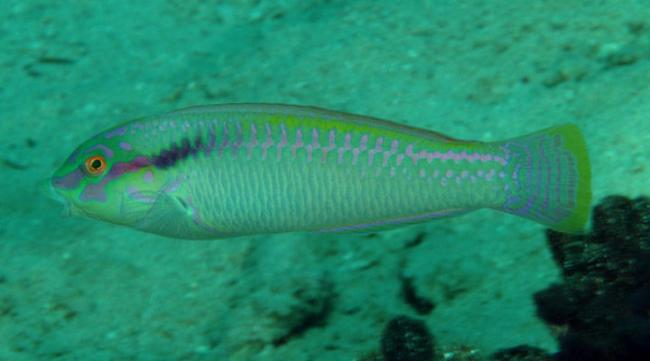fish: (51, 102, 593, 242)
